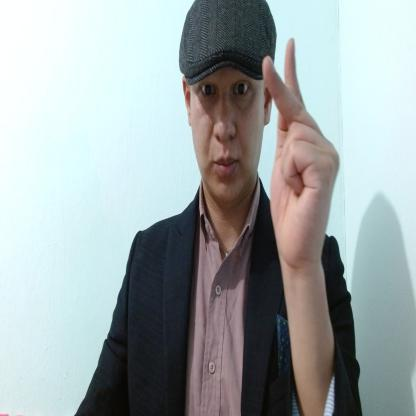P: (261, 36, 342, 269)
